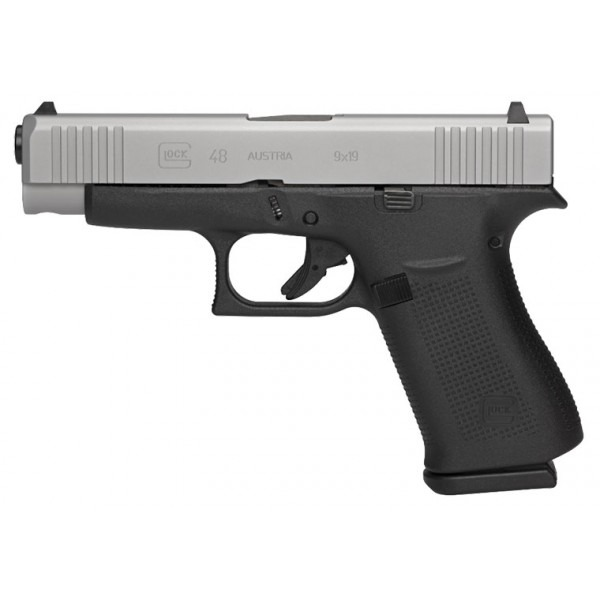gun: (10, 98, 586, 501)
